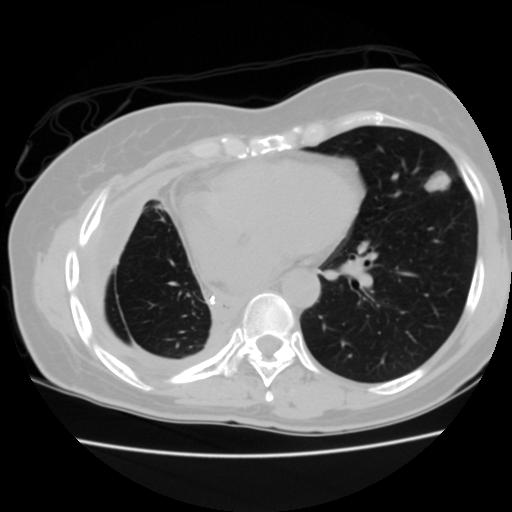nodule: (426, 169, 452, 195)
